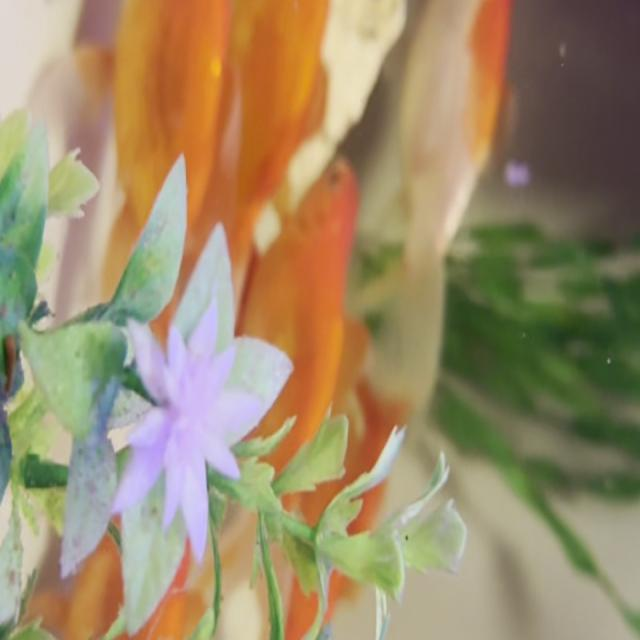fish: (228, 154, 354, 546), (110, 0, 233, 327), (387, 0, 515, 286), (220, 0, 336, 271)
